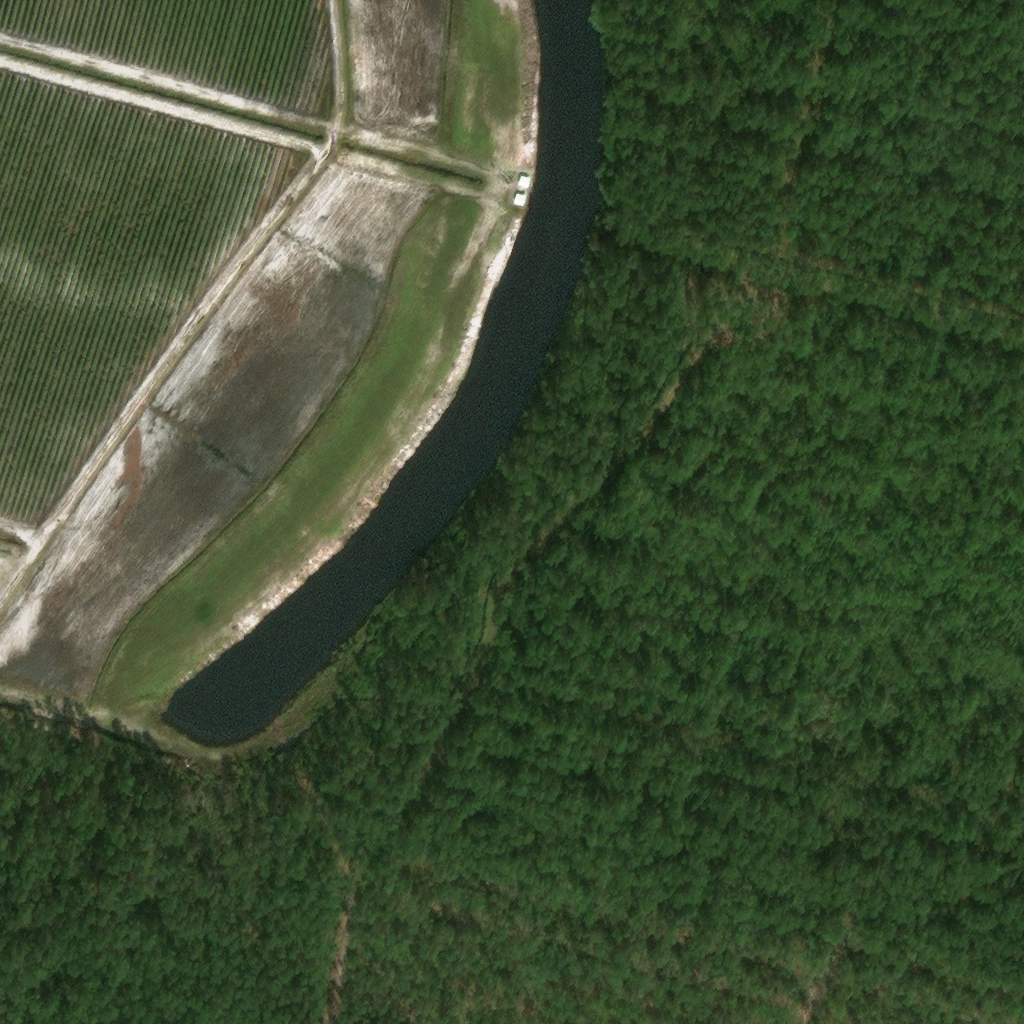minor_damage: (519, 178, 531, 189), (514, 196, 526, 207)
